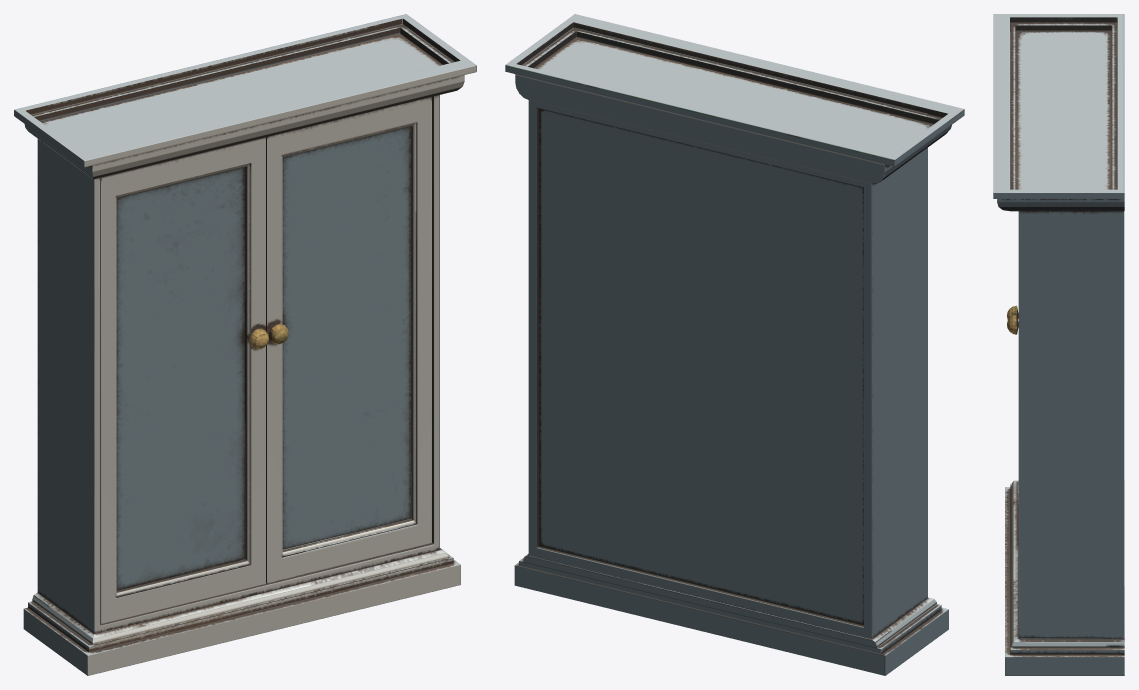
3 renders of one model, left to right at view 1: azimuth 30°, elevation 25°; view 2: azimuth 150°, elevation 25°; view 3: azimuth 270°, elevation 25°, orthographic. The views are drawn at different scales.
Visible parts, largest first — view 1: Group15792, Group15792.001; view 2: Group15792; view 3: Group15792.
Boxes of the visible parts, bbox=[...] form: Group15792: bbox=[14, 14, 476, 675]; Group15792.001: bbox=[116, 126, 410, 590]; Group15792: bbox=[505, 14, 964, 675]; Group15792: bbox=[993, 14, 1124, 675].
Size of the model in its own units: 92.77 by 118 by 28.83.
Materials: 2 (2 with a texture image).
